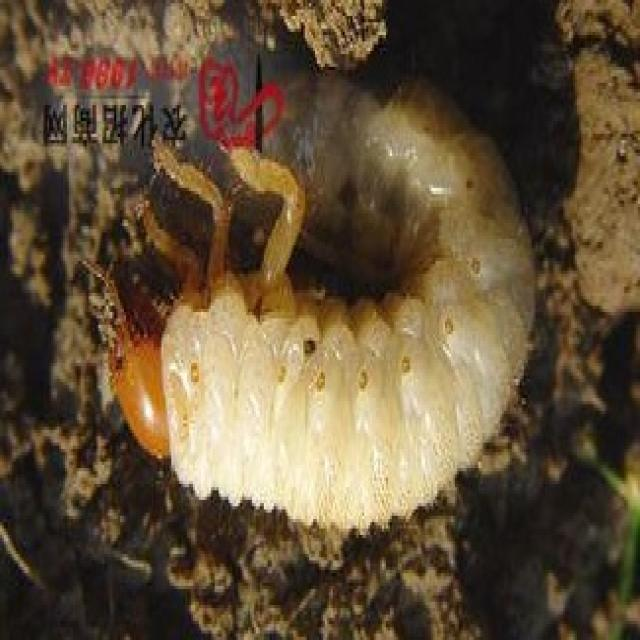grub: (109, 63, 539, 525)
